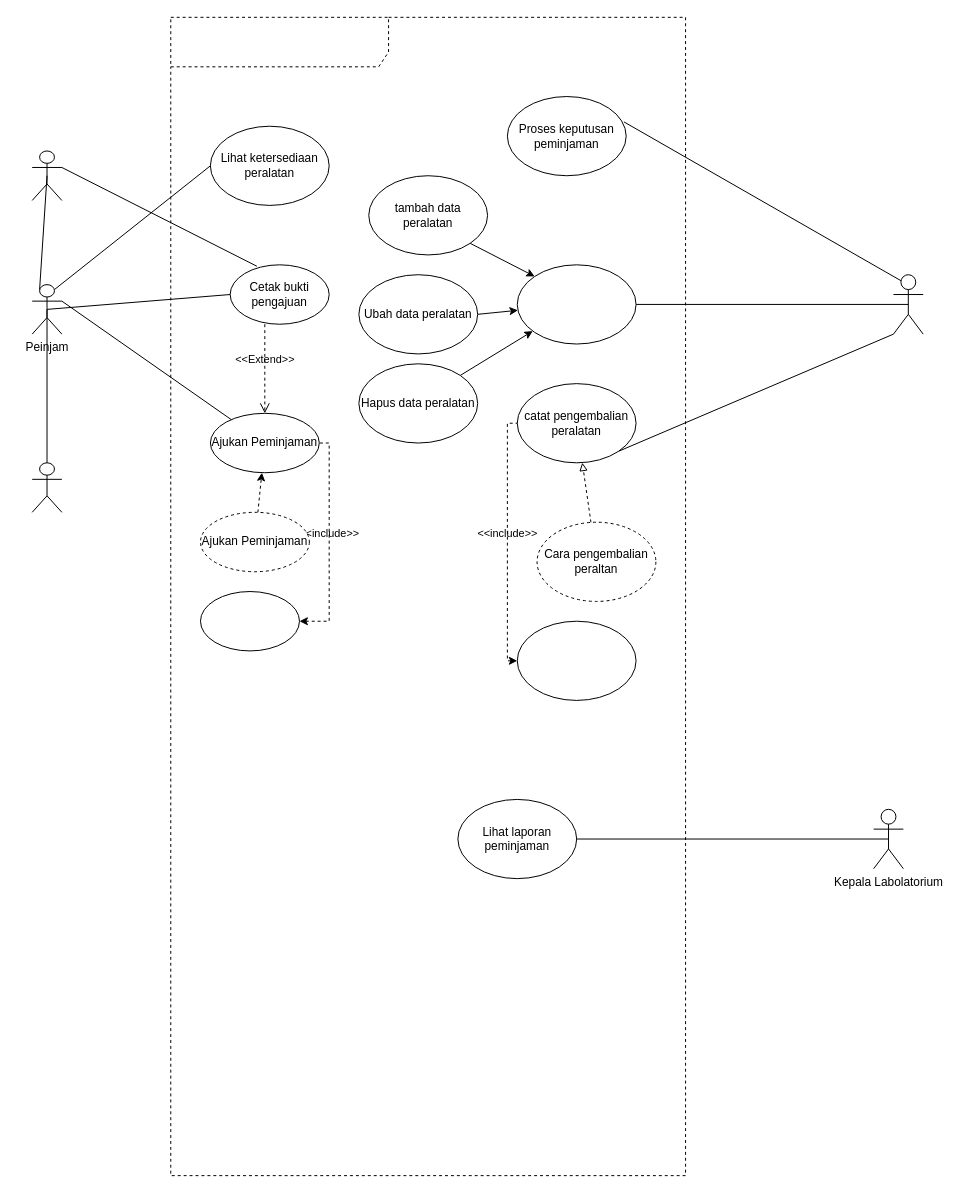
Image size: 970x1193. Some labels were removed from this diagram. Each missing label, with the box of its shape:
Dosen: (31, 462, 62, 512)
Kelola data peralatan: (516, 264, 636, 344)
Mahasiswa: (31, 150, 62, 200)
Periksan ketersediaan: (199, 591, 299, 651)
Periksan kondisi peralatan: (516, 620, 636, 700)
Petugas Laporan: (892, 274, 923, 334)
Sistem Informasi peminjaman dan Pengembalian Peralatan Laboratorium Kampus: (170, 16, 686, 1176)
